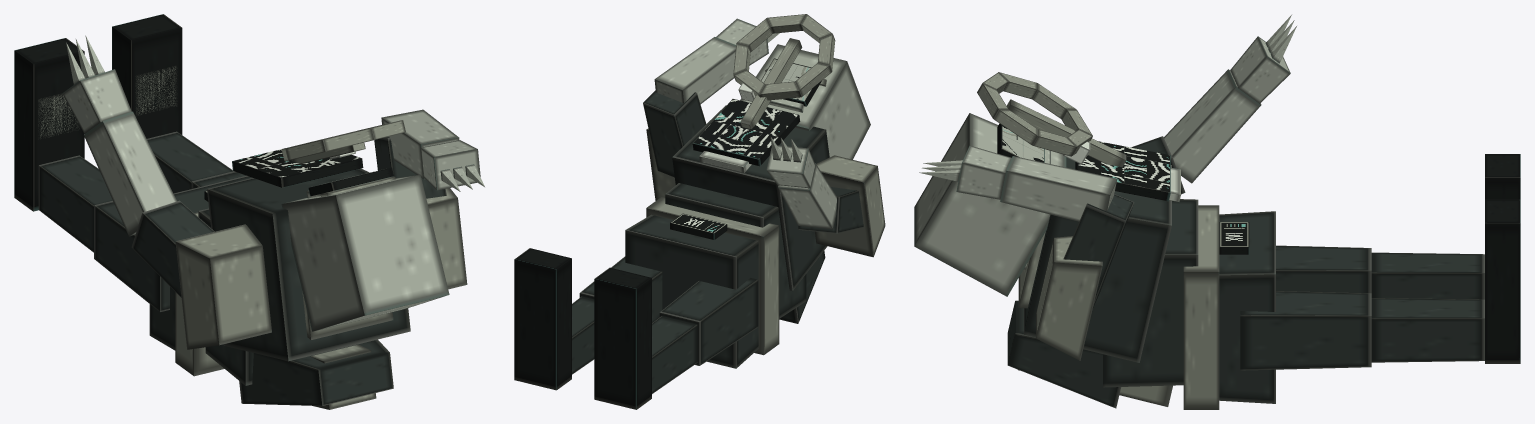
File: probator_warning.obj
3 renders of one model, left to right at view 1: azimuth 30°, elevation 25°; view 2: azimuth 150°, elevation 25°; view 3: azimuth 270°, elevation 25°, orthographic. The views are drawn at different scales.
Parts seen in each view (by area): view 1: probator_warning; view 2: probator_warning; view 3: probator_warning.
Boxes of the visible parts, x1,y1,x2,y2 form: probator_warning: (14, 14, 484, 409); probator_warning: (514, 14, 885, 409); probator_warning: (914, 15, 1520, 409).
Bounding box in the file's own units: 0.5174 × 0.57 × 1.
1 material, 1 textured.
